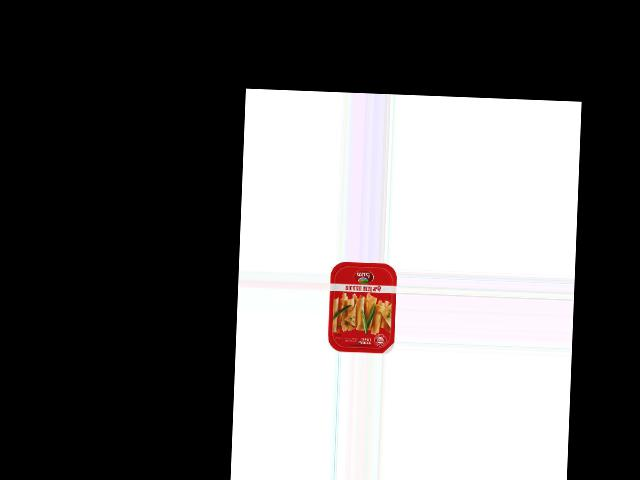cheese: (326, 261, 397, 354)
